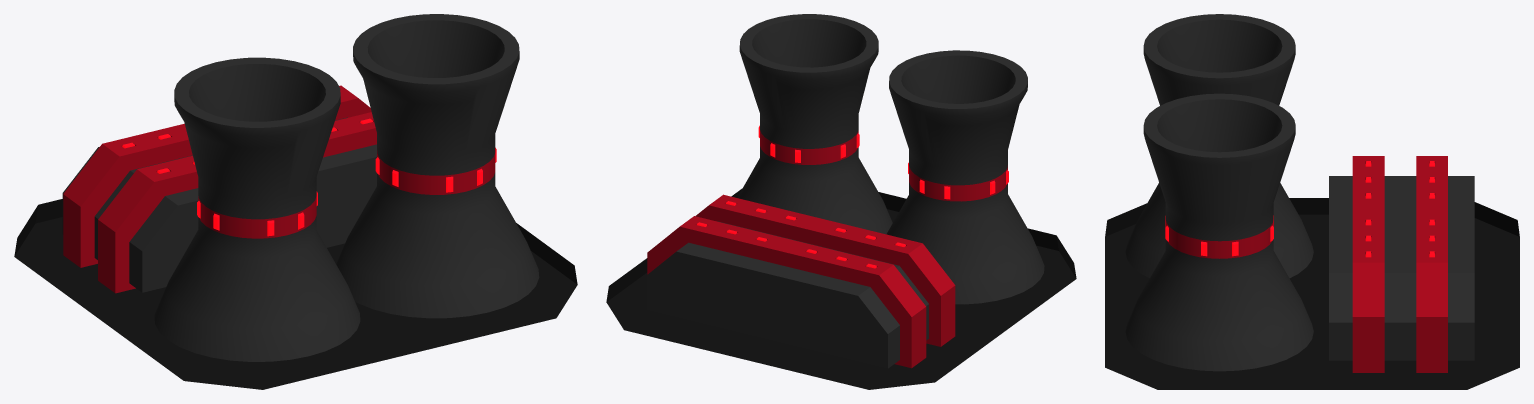
The model's file is RTS Power plant.gltf.
3 renders of one model, left to right at view 1: azimuth 30°, elevation 25°; view 2: azimuth 150°, elevation 25°; view 3: azimuth 270°, elevation 25°, orthographic. The views are drawn at different scales.
Parts seen in each view (by area): view 1: Cube.001, Cube, Cube.003, Cube.002; view 2: Cube.001, Cube.002, Cube.003, Cube; view 3: Cube.001, Cube, Cube.002, Cube.003.
Part boxes in pixels (x1,y1,x2,y2): Cube.001: (154, 14, 539, 361); Cube: (14, 199, 577, 389); Cube.003: (63, 85, 376, 293); Cube.002: (62, 117, 376, 292); Cube.001: (737, 14, 1044, 304); Cube.002: (646, 221, 928, 368); Cube.003: (647, 194, 955, 368); Cube: (606, 188, 1076, 389); Cube.001: (1125, 14, 1313, 371); Cube: (1105, 198, 1519, 389); Cube.002: (1329, 176, 1474, 360); Cube.003: (1352, 156, 1447, 372).
Bounding box in the file's own units: 2 × 1.22 × 2.
